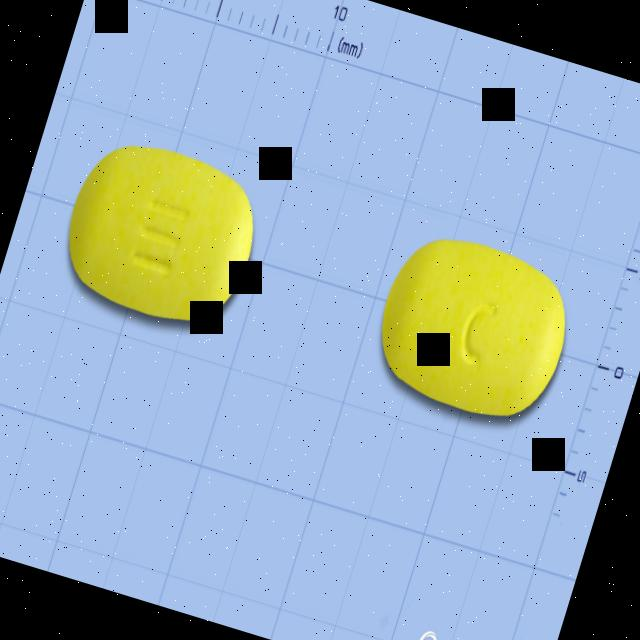Clararoxin: (46, 120, 278, 344), (358, 219, 590, 439)
